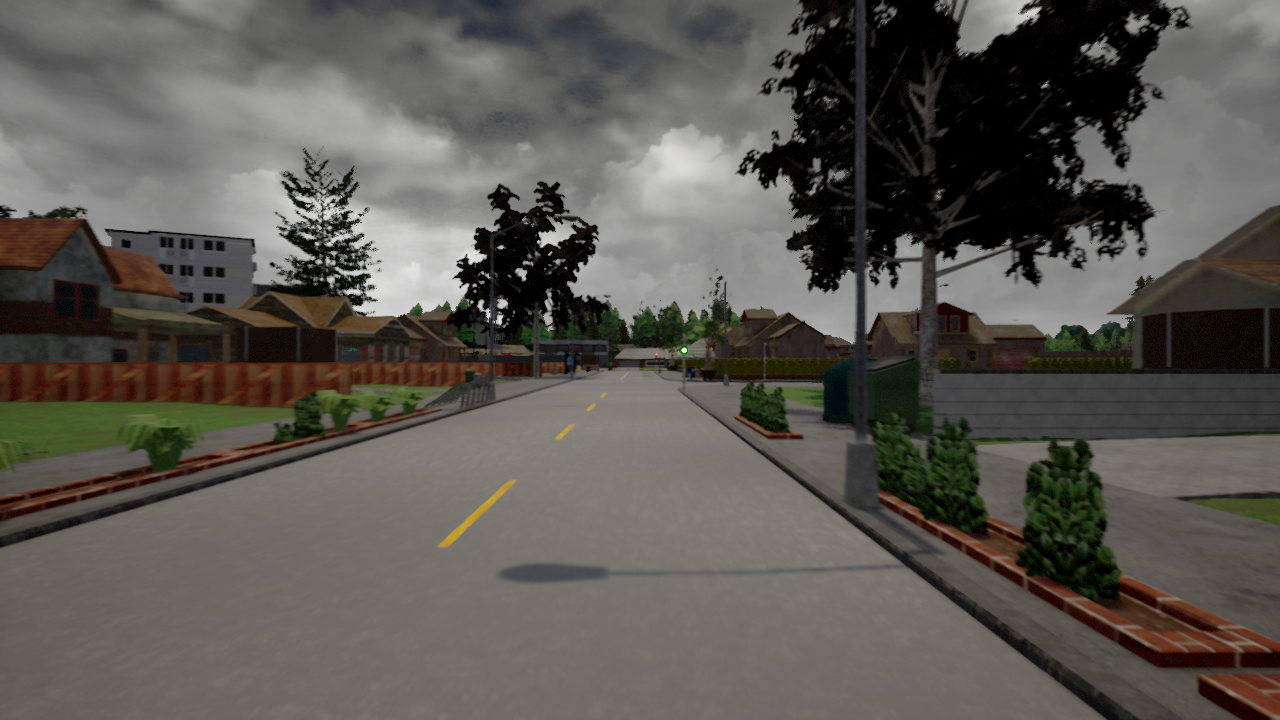green: (680, 336, 689, 355)
